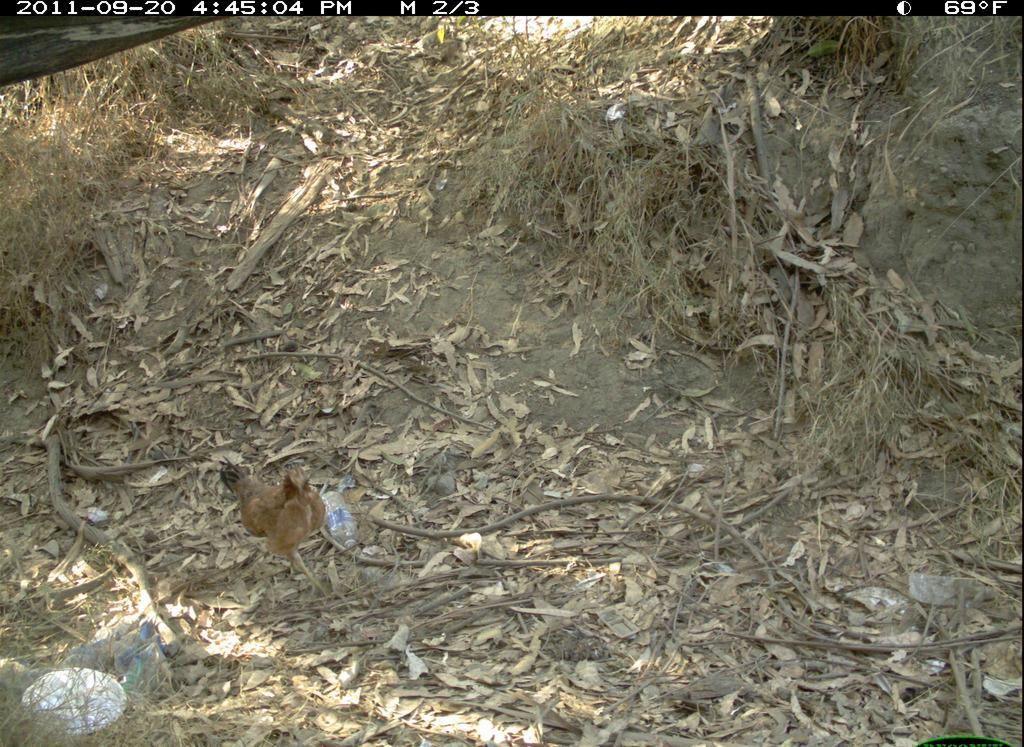bird: (195, 436, 365, 607)
